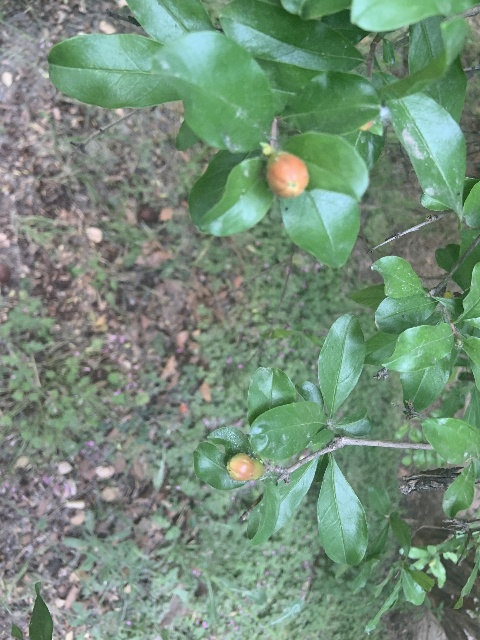bud: (266, 153, 309, 198), (225, 452, 265, 480)
